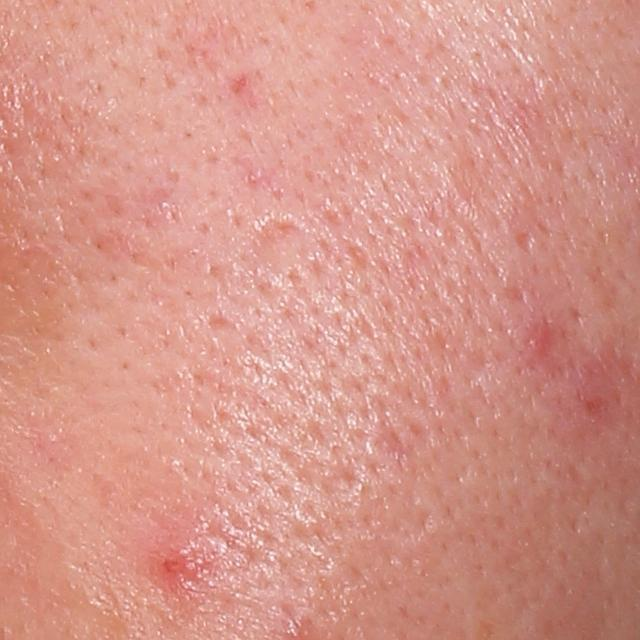atrophic_scar: (247, 216, 309, 252), (444, 156, 480, 215), (207, 313, 237, 331), (513, 231, 534, 255)
papule: (158, 540, 207, 585), (520, 323, 555, 359)
